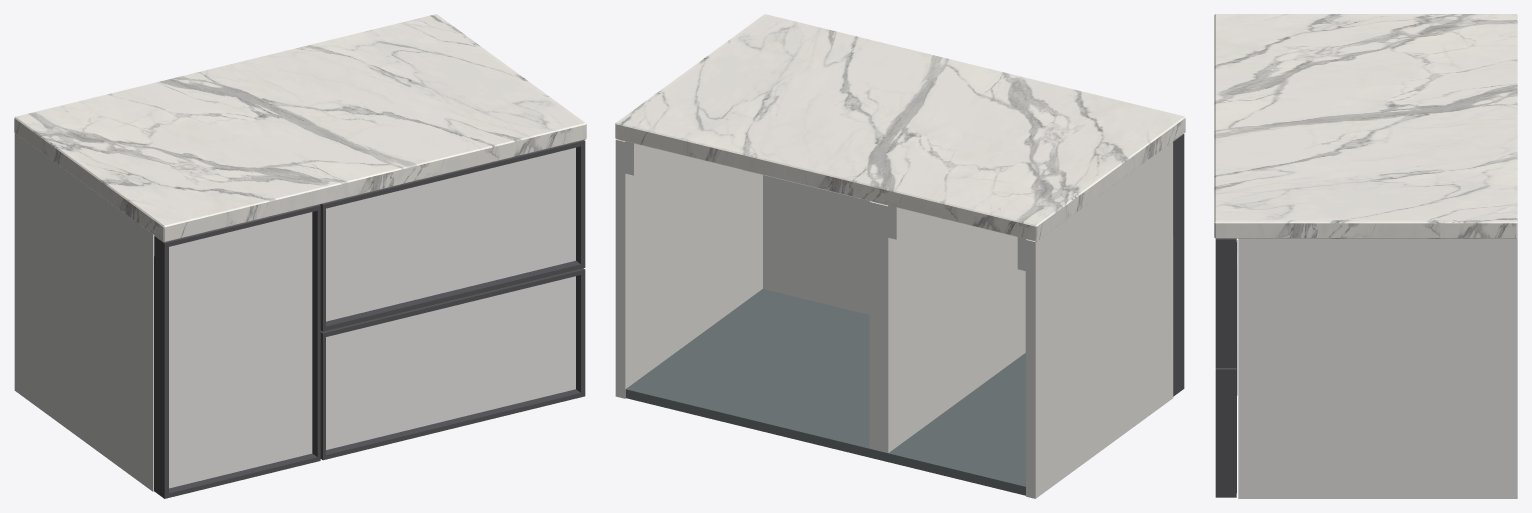
The picture shows the model from 3 angles, left to right: view 1: azimuth 30°, elevation 25°; view 2: azimuth 150°, elevation 25°; view 3: azimuth 270°, elevation 25°; orthographic projection.
Visible parts, largest first — view 1: AT06; view 2: AT06; view 3: AT06.
Boxes of the visible parts, box(x1,y1,x2,y2) form: AT06: box(14, 14, 586, 498); AT06: box(615, 14, 1185, 498); AT06: box(1214, 14, 1517, 498).
Size of the model in its own units: 0.796 by 0.493 by 0.489.
5 materials, 3 textured.
